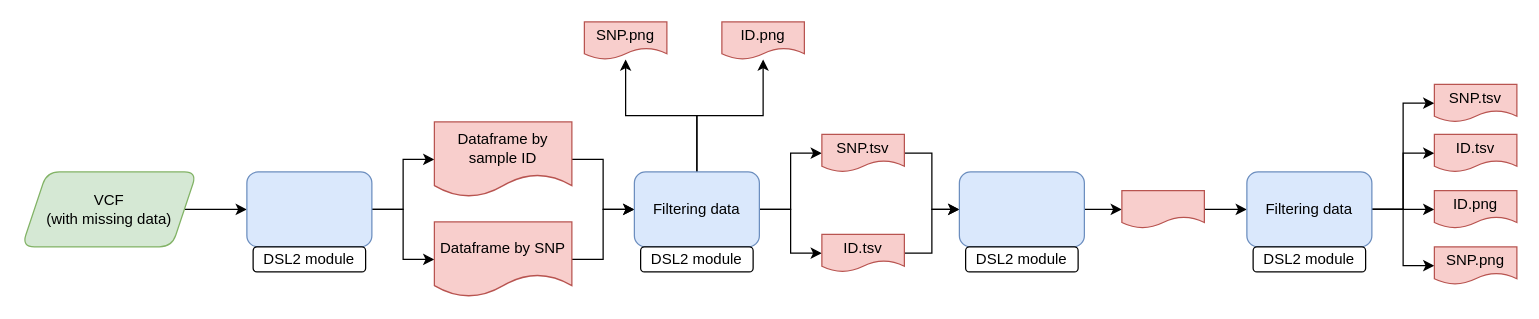
The diagram is 1539 pixels wide and 319 high, and some of its shapes have lost their labels. The shapes that lost their labels are listed below. From the top down, each one's centre as x and y in pixels, then its label:
At point 309,209: "Pre treating process".
At point 1021,209: "Filtering VCF".
At point 1162,208: "VCF".
